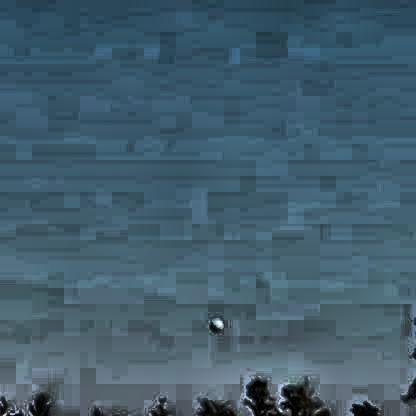golfball: (207, 314, 222, 329)
